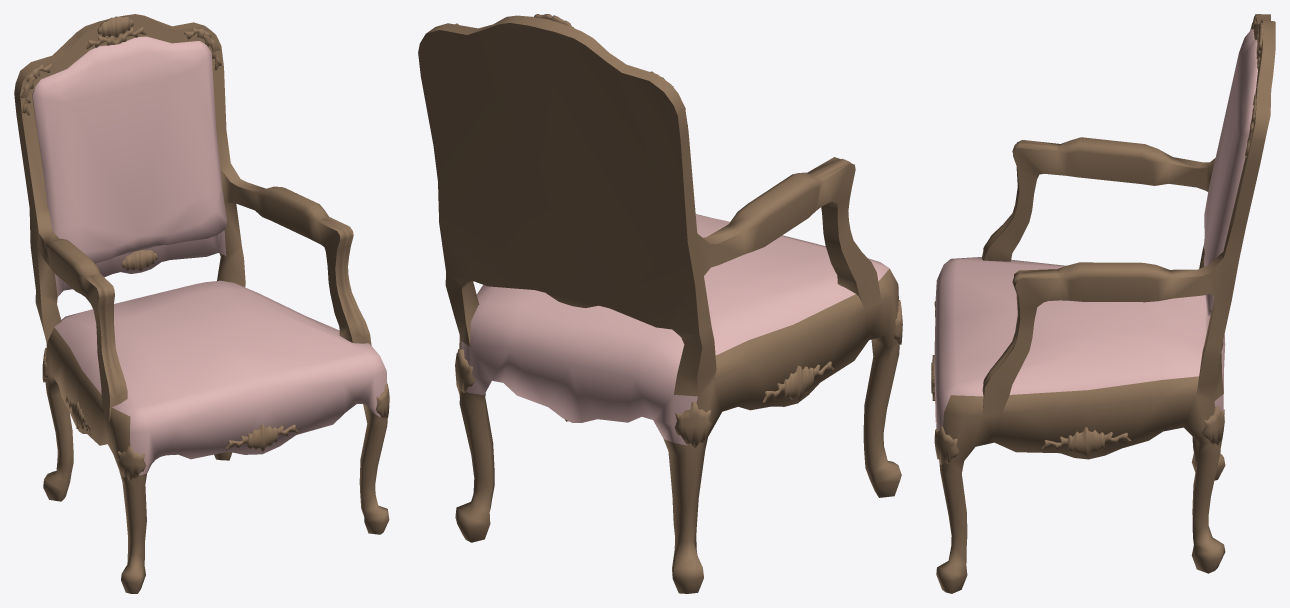
File: Kit_BergereChair.fbx
The picture shows the model from 3 angles, left to right: view 1: azimuth 30°, elevation 25°; view 2: azimuth 150°, elevation 25°; view 3: azimuth 270°, elevation 25°; orthographic projection. The views are drawn at different scales.
Visible parts, largest first — view 1: Kit_BergereChair_LOD0; view 2: Kit_BergereChair_LOD0; view 3: Kit_BergereChair_LOD0.
Part boxes in pixels (x1,y1,x2,y2): Kit_BergereChair_LOD0: (14,14,389,593); Kit_BergereChair_LOD0: (418,14,902,593); Kit_BergereChair_LOD0: (931,14,1275,593).
Size of what is drawn, in the model's own units: 0.6731 by 1.06 by 0.6644.
